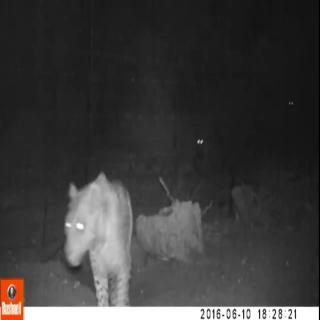Leopard: (46, 165, 142, 289)
